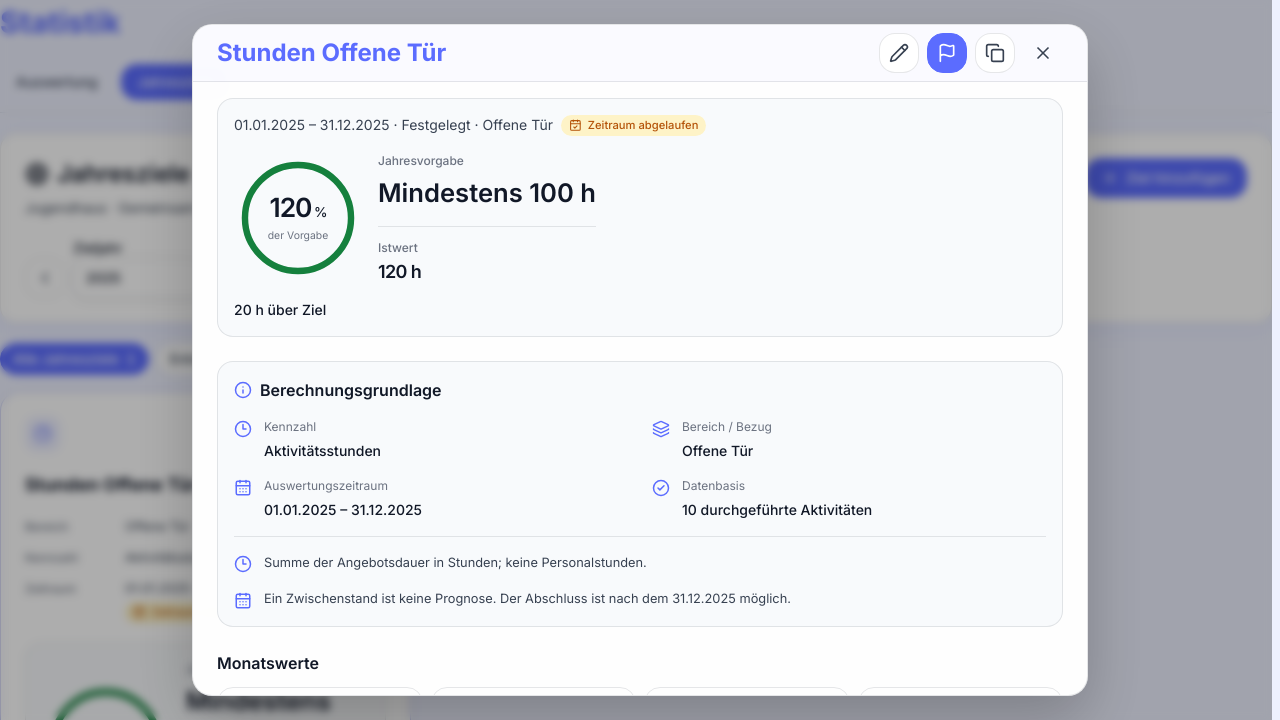
Scenario: Annual target UI permissions and flows › copies into the following year through a separate confirmation dialog
Click the button named "Für 2026 übernehmen" at point(995, 53), box [975,33,1015,73]
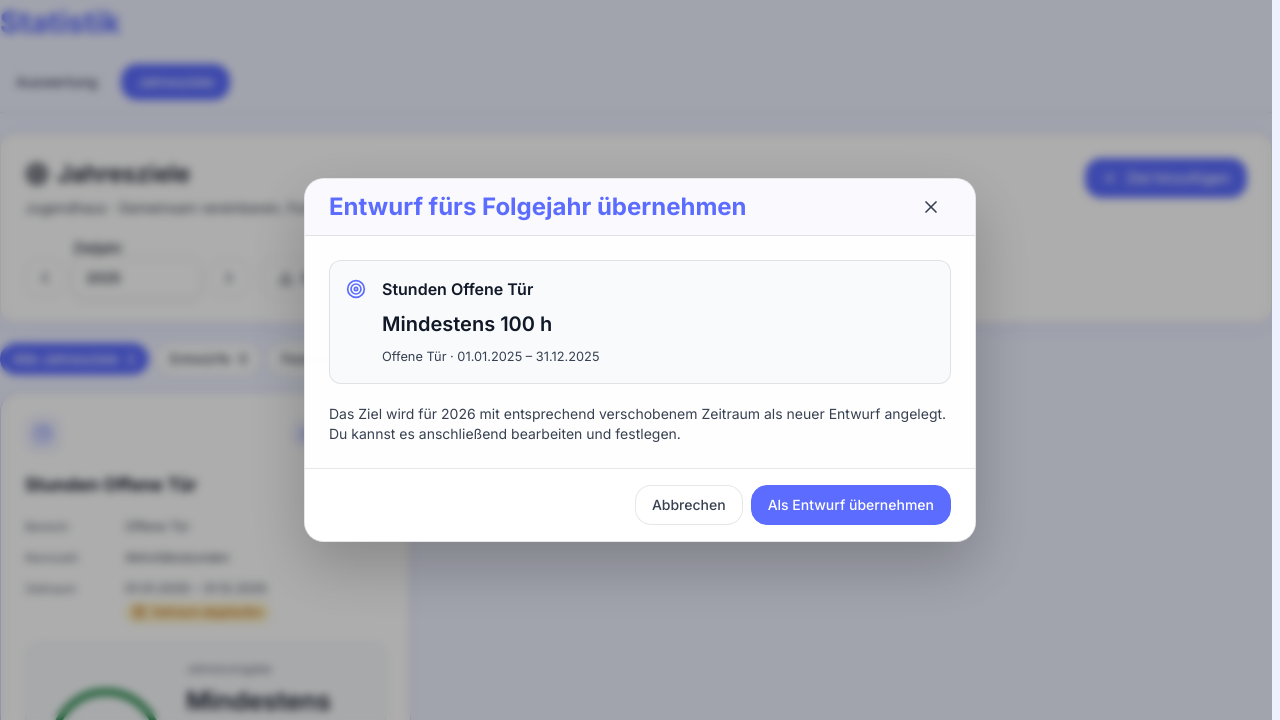
Expected: the number of dialogs is 1, [304,178,976,542]
Expected: the dialog "Entwurf fürs Folgejahr übernehmen" is shown, [304,178,976,542]
Expected: the heading "Berechnungsgrundlage" is gone
Click the button "Als Entwurf übernehmen" at point(851, 505), box [751,485,951,525]
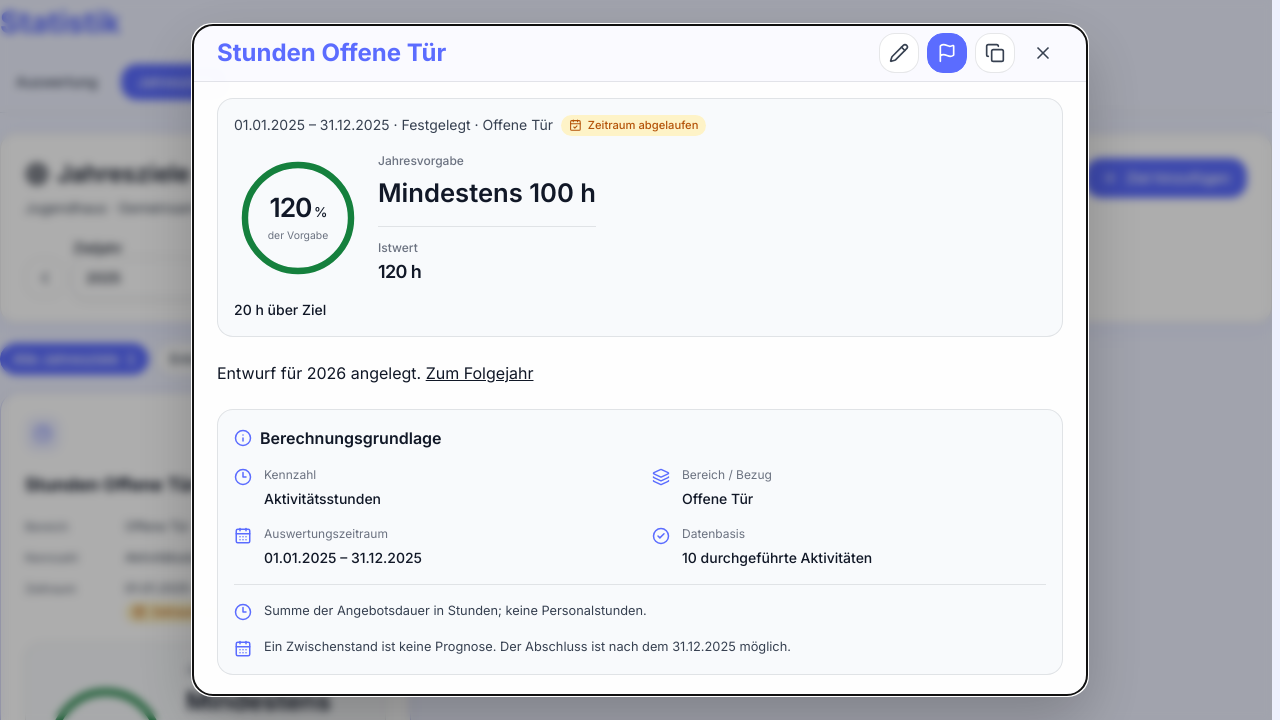
Expected: the text "Entwurf für 2026 angelegt. Zum Folgejahr" is shown, [217,363,534,383]
